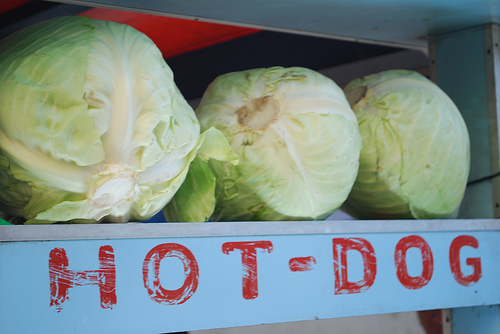cabbage: (2, 12, 197, 220), (191, 64, 364, 223), (344, 66, 474, 219)
